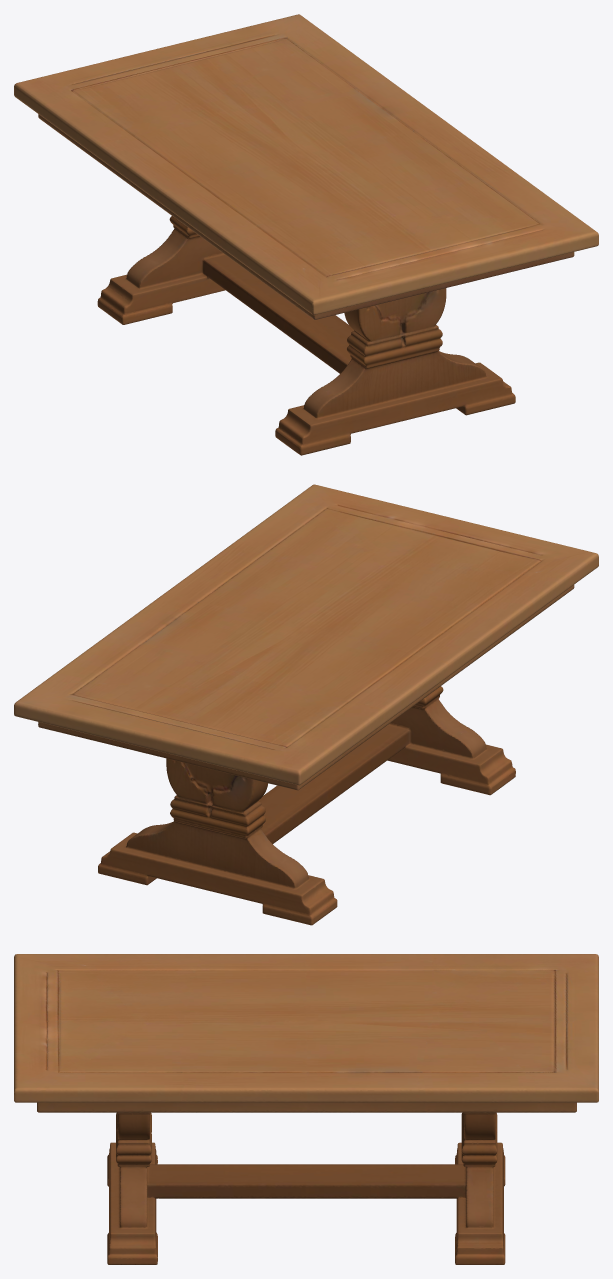
File: detailed_realistic_model_grandoaktable_05.glb
3 views of the same model, one above another, from view 1: azimuth 30°, elevation 25°; view 2: azimuth 150°, elevation 25°; view 3: azimuth 270°, elevation 25° (orthographic). The views are drawn at different scales.
Parts seen in each view (by area): view 1: tripo_node_dcd9e09a-316f-4cc2-bb1d-225ba99d826f; view 2: tripo_node_dcd9e09a-316f-4cc2-bb1d-225ba99d826f; view 3: tripo_node_dcd9e09a-316f-4cc2-bb1d-225ba99d826f.
Boxes of the visible parts, x1,y1,x2,y2 form: tripo_node_dcd9e09a-316f-4cc2-bb1d-225ba99d826f: (14, 14, 598, 455); tripo_node_dcd9e09a-316f-4cc2-bb1d-225ba99d826f: (14, 484, 598, 925); tripo_node_dcd9e09a-316f-4cc2-bb1d-225ba99d826f: (14, 954, 598, 1264).
Size of the model in its own units: 0.5519 by 0.365 by 1.
Materials: 1 (1 with a texture image).
